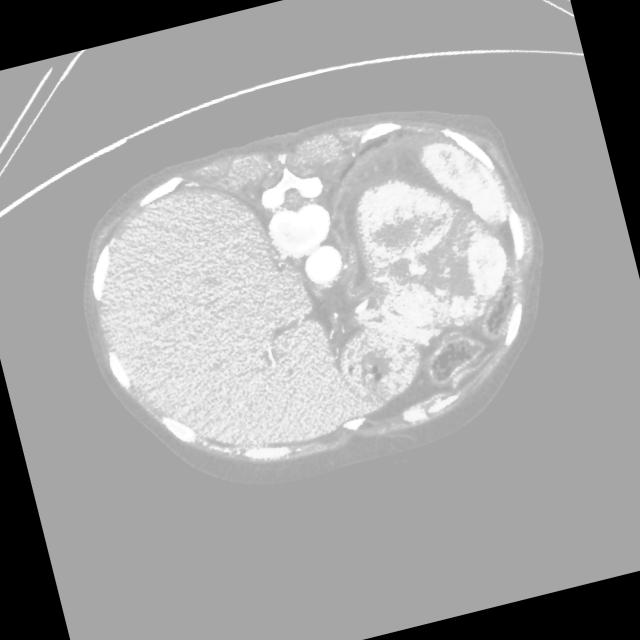TUMOR: (311, 79, 556, 315)
